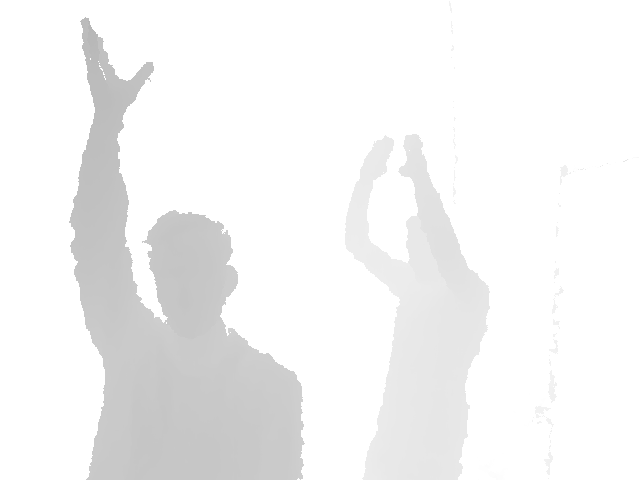hand: (79, 16, 156, 116), (357, 134, 396, 178), (396, 133, 428, 177)
head: (144, 210, 238, 336), (403, 212, 449, 288)
person: (68, 15, 305, 480), (343, 133, 491, 480)
